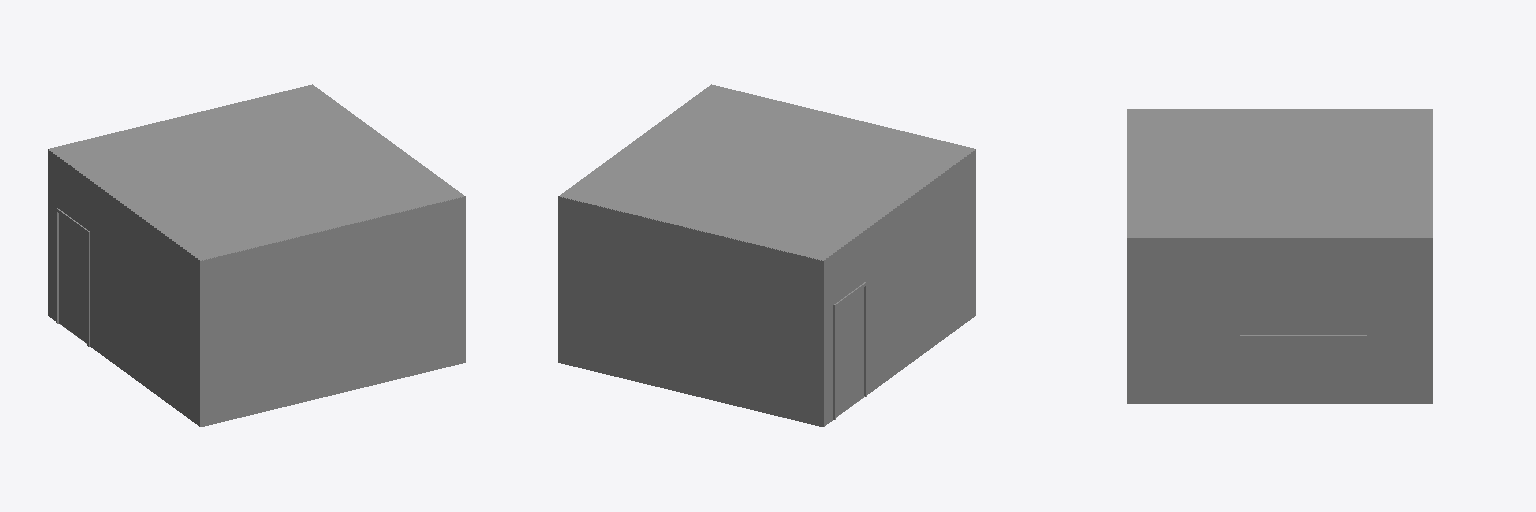
Rendered from room.obj.
3 renders of one model, left to right at view 1: azimuth 30°, elevation 25°; view 2: azimuth 150°, elevation 25°; view 3: azimuth 270°, elevation 25°, orthographic.
Visible parts, largest first — view 1: Wall_3_Cube.001, Cube, Walll_4_Cube.004, Door_Cube.005; view 2: Wall_1_Cube.002, Cube, Walll_4_Cube.004, Door_Cube.005; view 3: Wall_2_Cube.003, Cube, Window_Glass_Cube.008, Window_Cube.006.
Part boxes in pixels (bbox=[...]): Wall_3_Cube.001: bbox=[201, 197, 465, 426]; Cube: bbox=[48, 84, 464, 260]; Walll_4_Cube.004: bbox=[48, 150, 200, 426]; Door_Cube.005: bbox=[59, 214, 86, 342]; Wall_1_Cube.002: bbox=[558, 197, 822, 426]; Cube: bbox=[559, 84, 975, 260]; Walll_4_Cube.004: bbox=[823, 150, 975, 426]; Door_Cube.005: bbox=[836, 287, 863, 416]; Wall_2_Cube.003: bbox=[1127, 238, 1432, 403]; Cube: bbox=[1127, 109, 1432, 237]; Window_Glass_Cube.008: bbox=[1242, 259, 1364, 333]; Window_Cube.006: bbox=[1240, 257, 1366, 334].
Size of the model in its own units: 1007 by 601 by 1002.